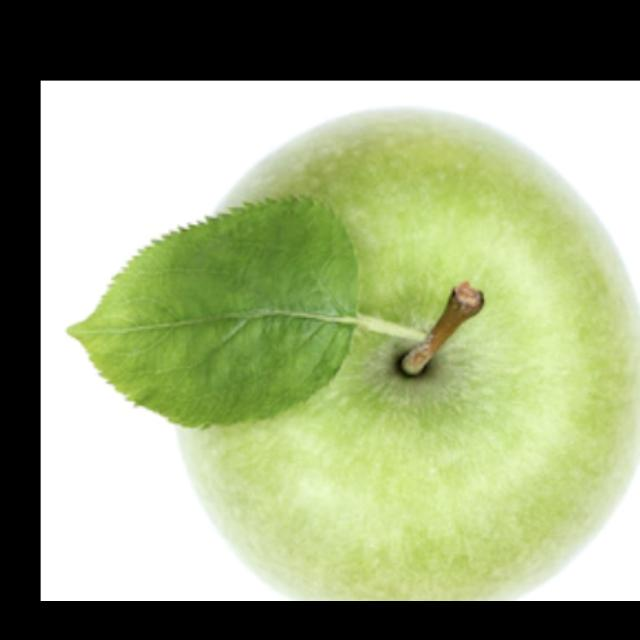Apel Segar: (65, 107, 640, 600)
